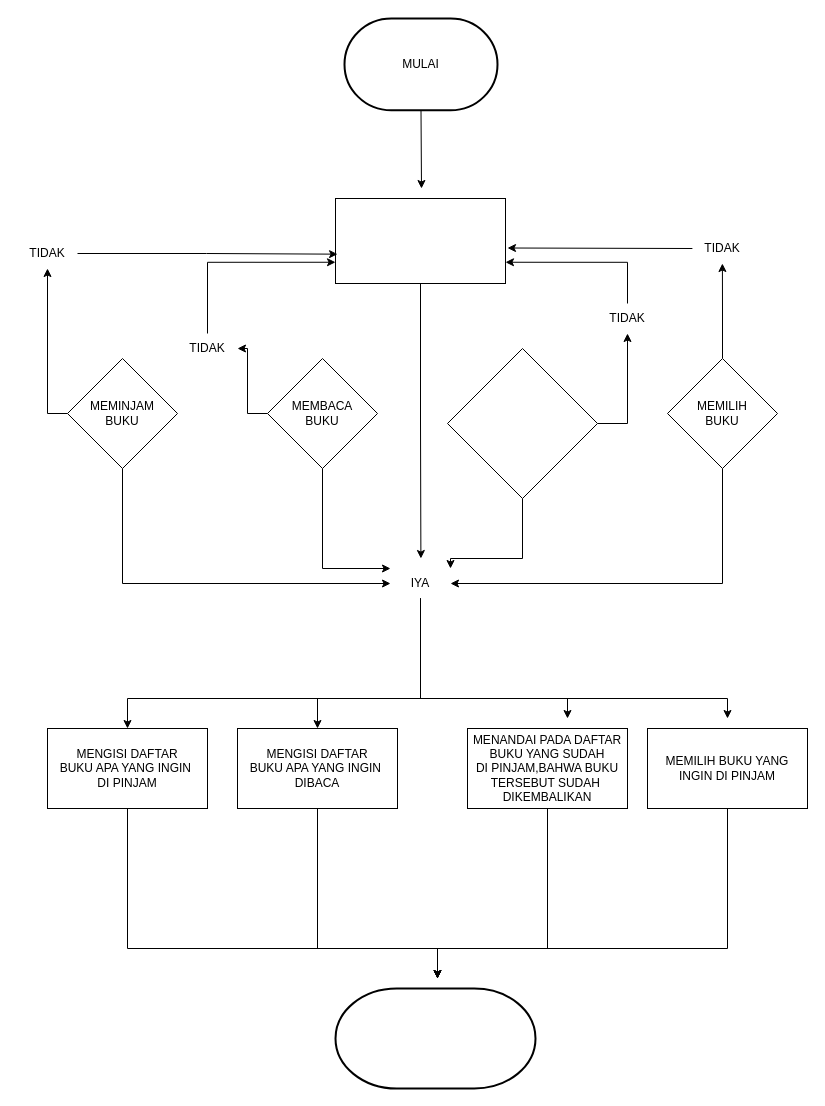
The diagram is 825 pixels wide and 1106 high, and some of its shapes have lost their labels. Each missing label, with the centre of its shape:
"MENGEMBALIKAN BUKU" goes at point 522,423.
"REGISTER/LOGIN" goes at point 420,241.
"SELESAI" goes at point 435,1038.
